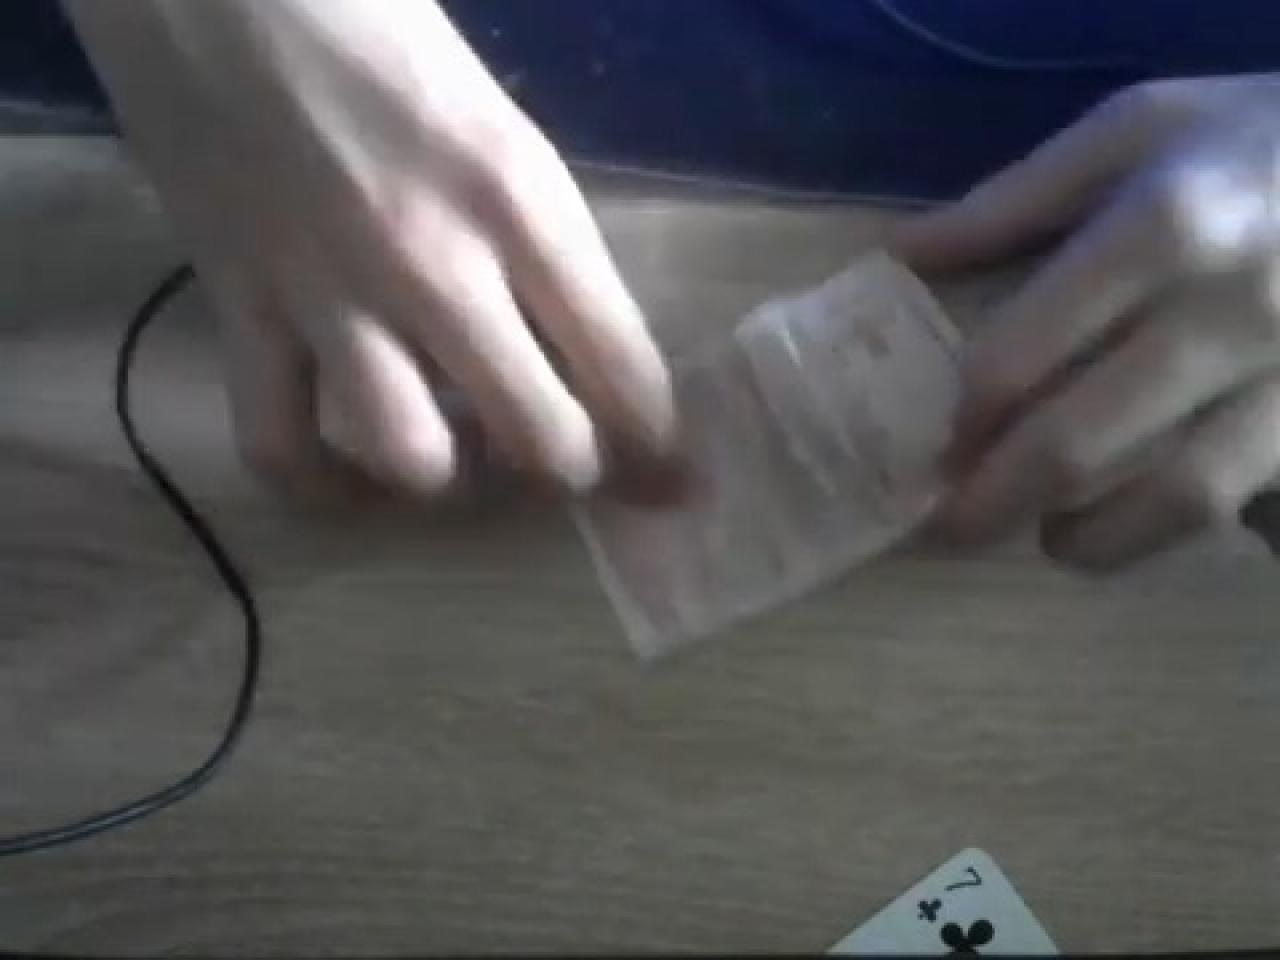5leva: (565, 78, 1280, 670)
